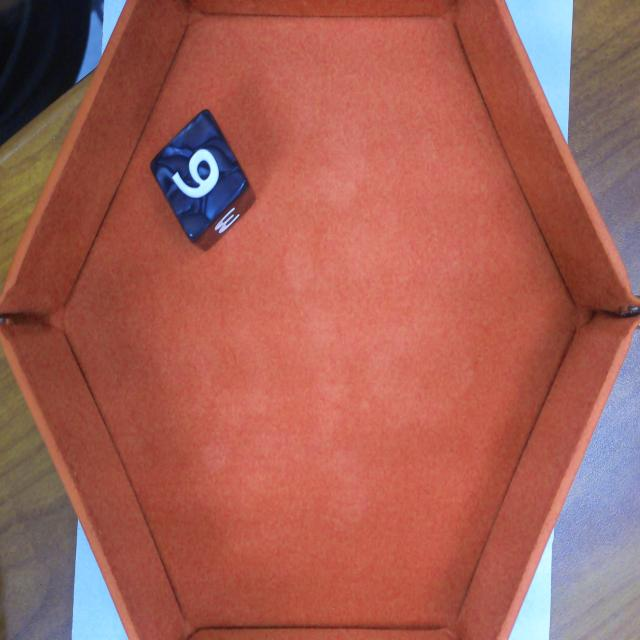dice: (151, 103, 253, 242)
